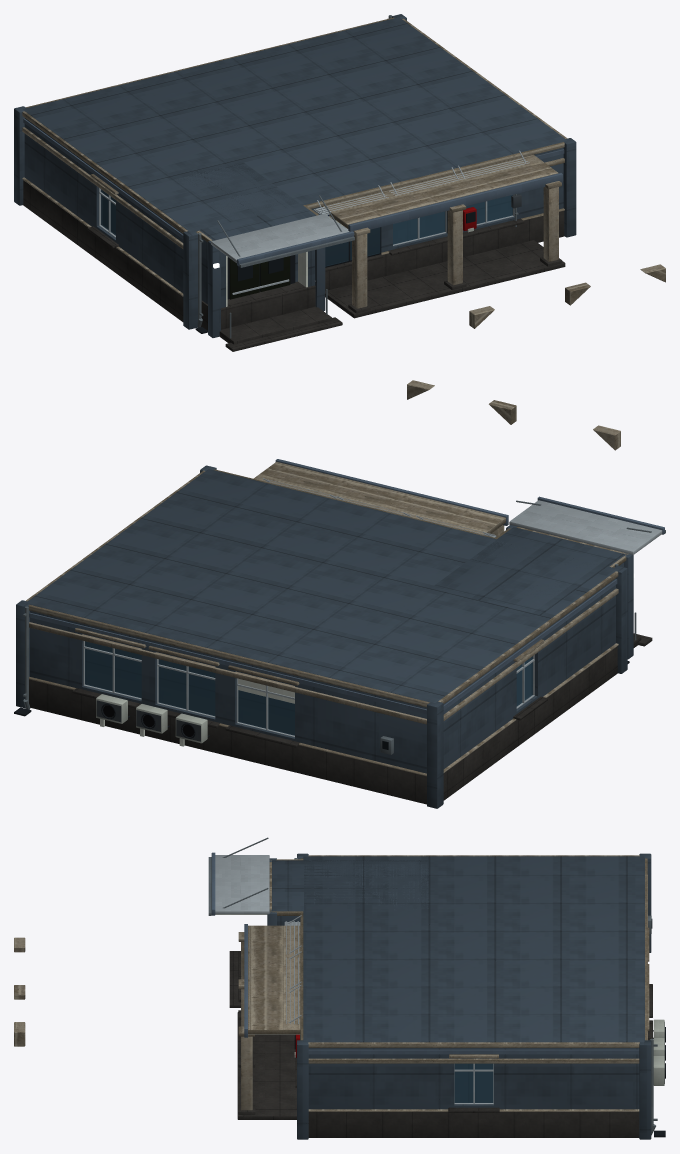
File: fac_office_main.glb
The picture shows the model from 3 angles, top to bottom: view 1: azimuth 30°, elevation 25°; view 2: azimuth 150°, elevation 25°; view 3: azimuth 270°, elevation 25°; orthographic projection. The views are drawn at different scales.
Parts seen in each view (by area): view 1: FAC_OFFICE_MAIN; view 2: FAC_OFFICE_MAIN; view 3: FAC_OFFICE_MAIN.
Part boxes in pixels (box(x1,y1,x2,y2)): FAC_OFFICE_MAIN: box(14, 14, 665, 351); FAC_OFFICE_MAIN: box(14, 380, 665, 808); FAC_OFFICE_MAIN: box(14, 837, 665, 1139).
Size of the model in its own units: 13.86 by 3.98 by 19.8.
20 materials, 15 textured.
